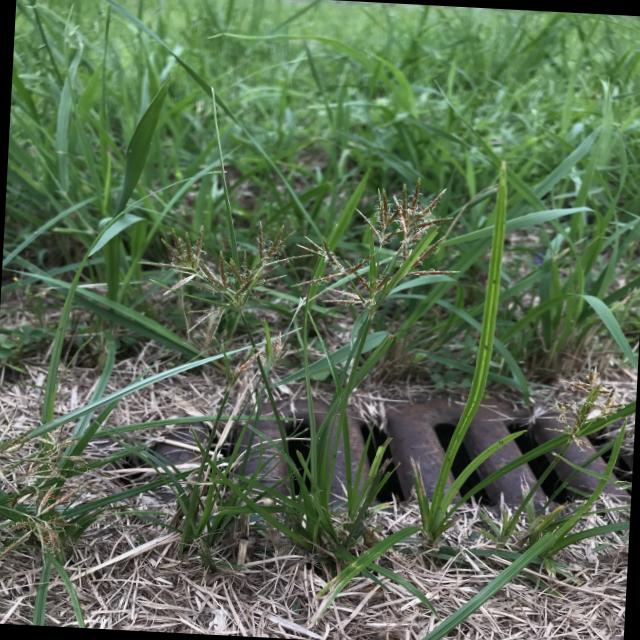cyperus: (149, 166, 464, 370), (302, 173, 462, 330), (148, 216, 290, 365)
